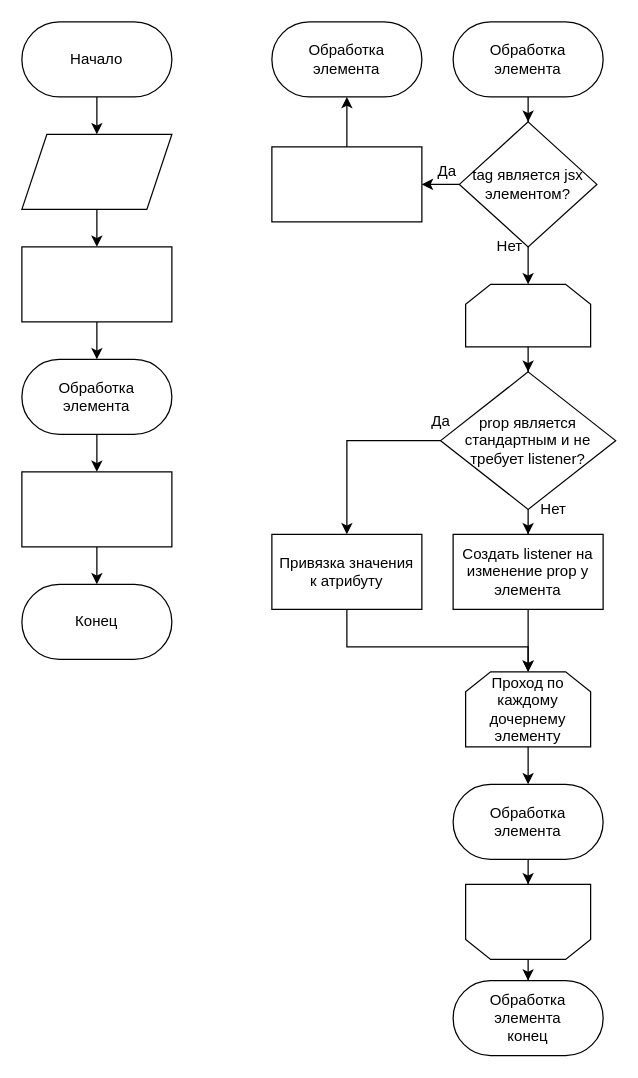
This 638x1078 diagram has some shape labels left out. Each missing label, with the centre of its shape:
"Jsx элемент" belongs at pixel 96 171.
"Вызов хука и переход на наовый уровень рекурсии" belongs at pixel 346 184.
"Дочерних элементов нет" belongs at pixel 527 921.
"Проход по каждому prop" belongs at pixel 527 315.
"Разбор элемента на tag, props, children" belongs at pixel 96 284.
"Создание экземпляра контроллера" belongs at pixel 96 509.
